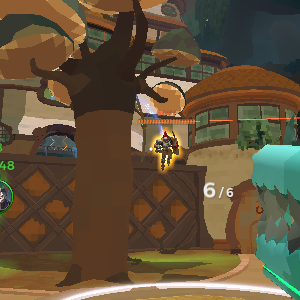model: (156, 131, 182, 176)
